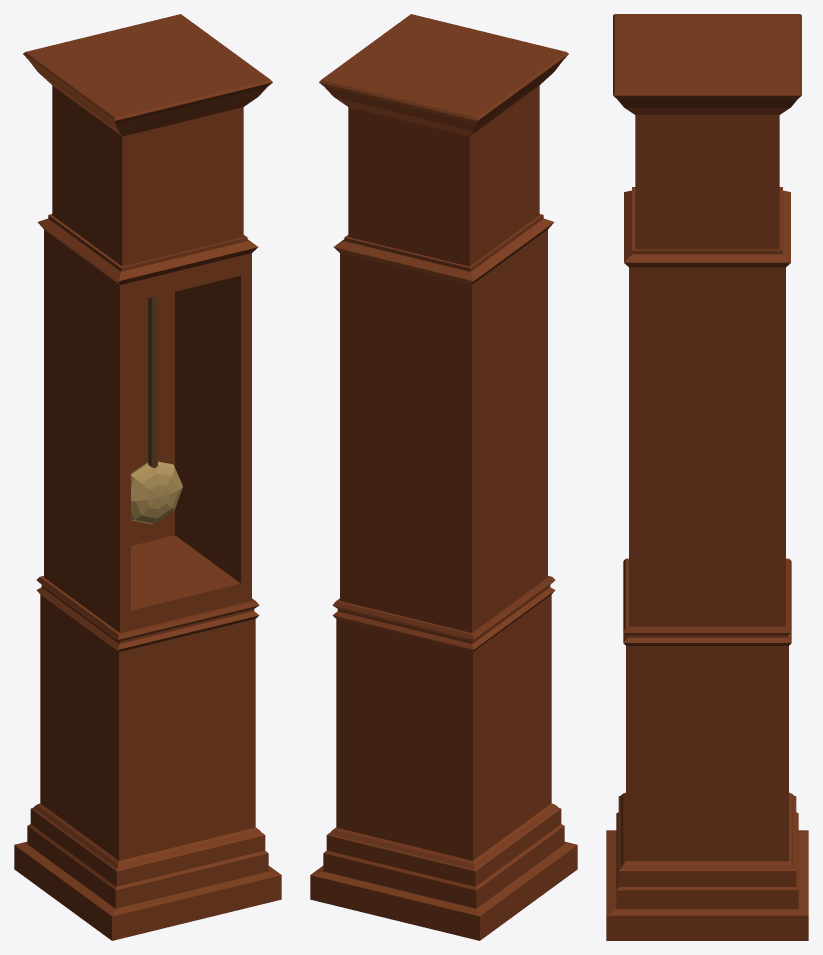
Rendered from Clock.fbx.
The picture shows the model from 3 angles, left to right: view 1: azimuth 30°, elevation 25°; view 2: azimuth 150°, elevation 25°; view 3: azimuth 270°, elevation 25°; orthographic projection. The views are drawn at different scales.
Parts seen in each view (by area): view 1: pCylinder1; view 2: pCylinder1; view 3: pCylinder1.
Boxes of the visible parts, box(x1,y1,x2,y2) form: pCylinder1: box(14, 14, 281, 940); pCylinder1: box(310, 14, 577, 940); pCylinder1: box(606, 14, 808, 940).
Bounding box in the file's own units: 6.16 × 28.4 × 6.16.
